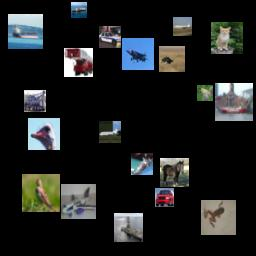airplane: (61, 184, 96, 219), (122, 38, 154, 70), (99, 121, 121, 143), (173, 17, 192, 36)
automobile: (99, 26, 121, 48), (155, 188, 174, 207)
bird: (22, 174, 60, 212), (28, 118, 60, 150), (159, 46, 185, 72), (197, 85, 213, 101)
cat: (211, 22, 243, 54), (131, 153, 153, 175)
frog: (201, 200, 236, 235)
ship: (215, 83, 253, 121), (8, 14, 43, 49), (114, 213, 143, 242), (71, 2, 87, 18)
truck: (64, 48, 93, 77), (24, 90, 46, 112)
